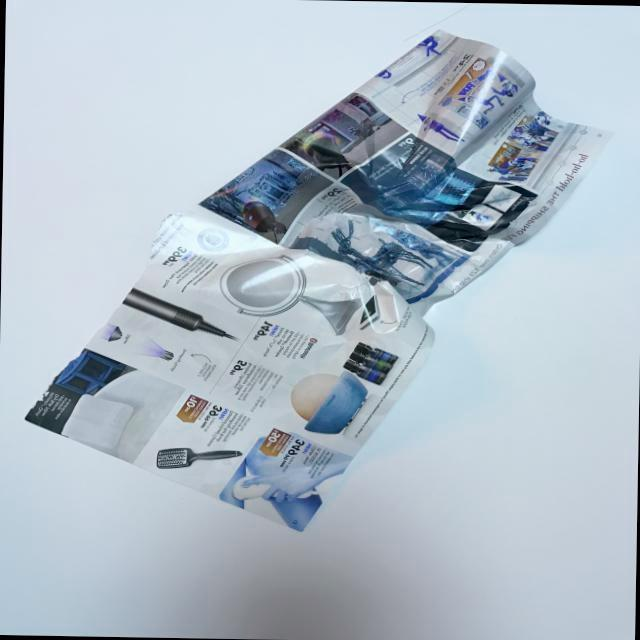paper: (0, 18, 611, 545)
